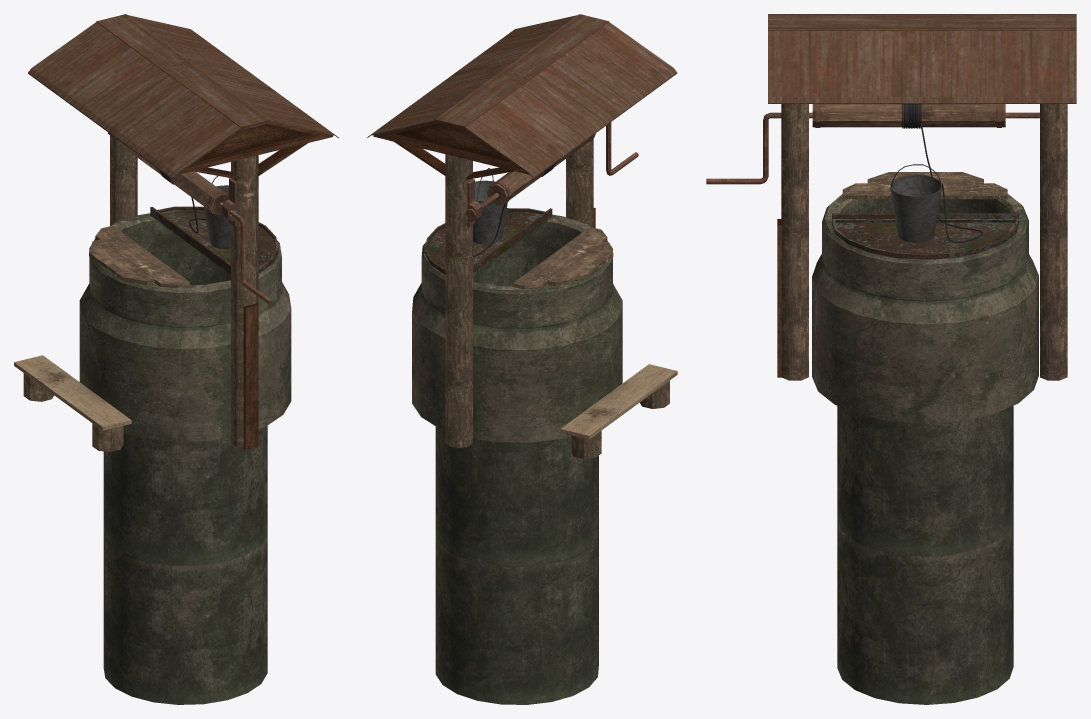
The model's file is well.FBX.
3 views of the same model, side by side, from view 1: azimuth 30°, elevation 25°; view 2: azimuth 150°, elevation 25°; view 3: azimuth 270°, elevation 25° (orthographic). The views are drawn at different scales.
Parts seen in each view (by area): view 1: Weel; view 2: Weel; view 3: Weel.
Part boxes in pixels (<box>): Weel: <box>14,14,338,704</box>; Weel: <box>367,14,677,704</box>; Weel: <box>706,14,1076,704</box>.
Size of the model in its own units: 55.89 by 150 by 78.45.
